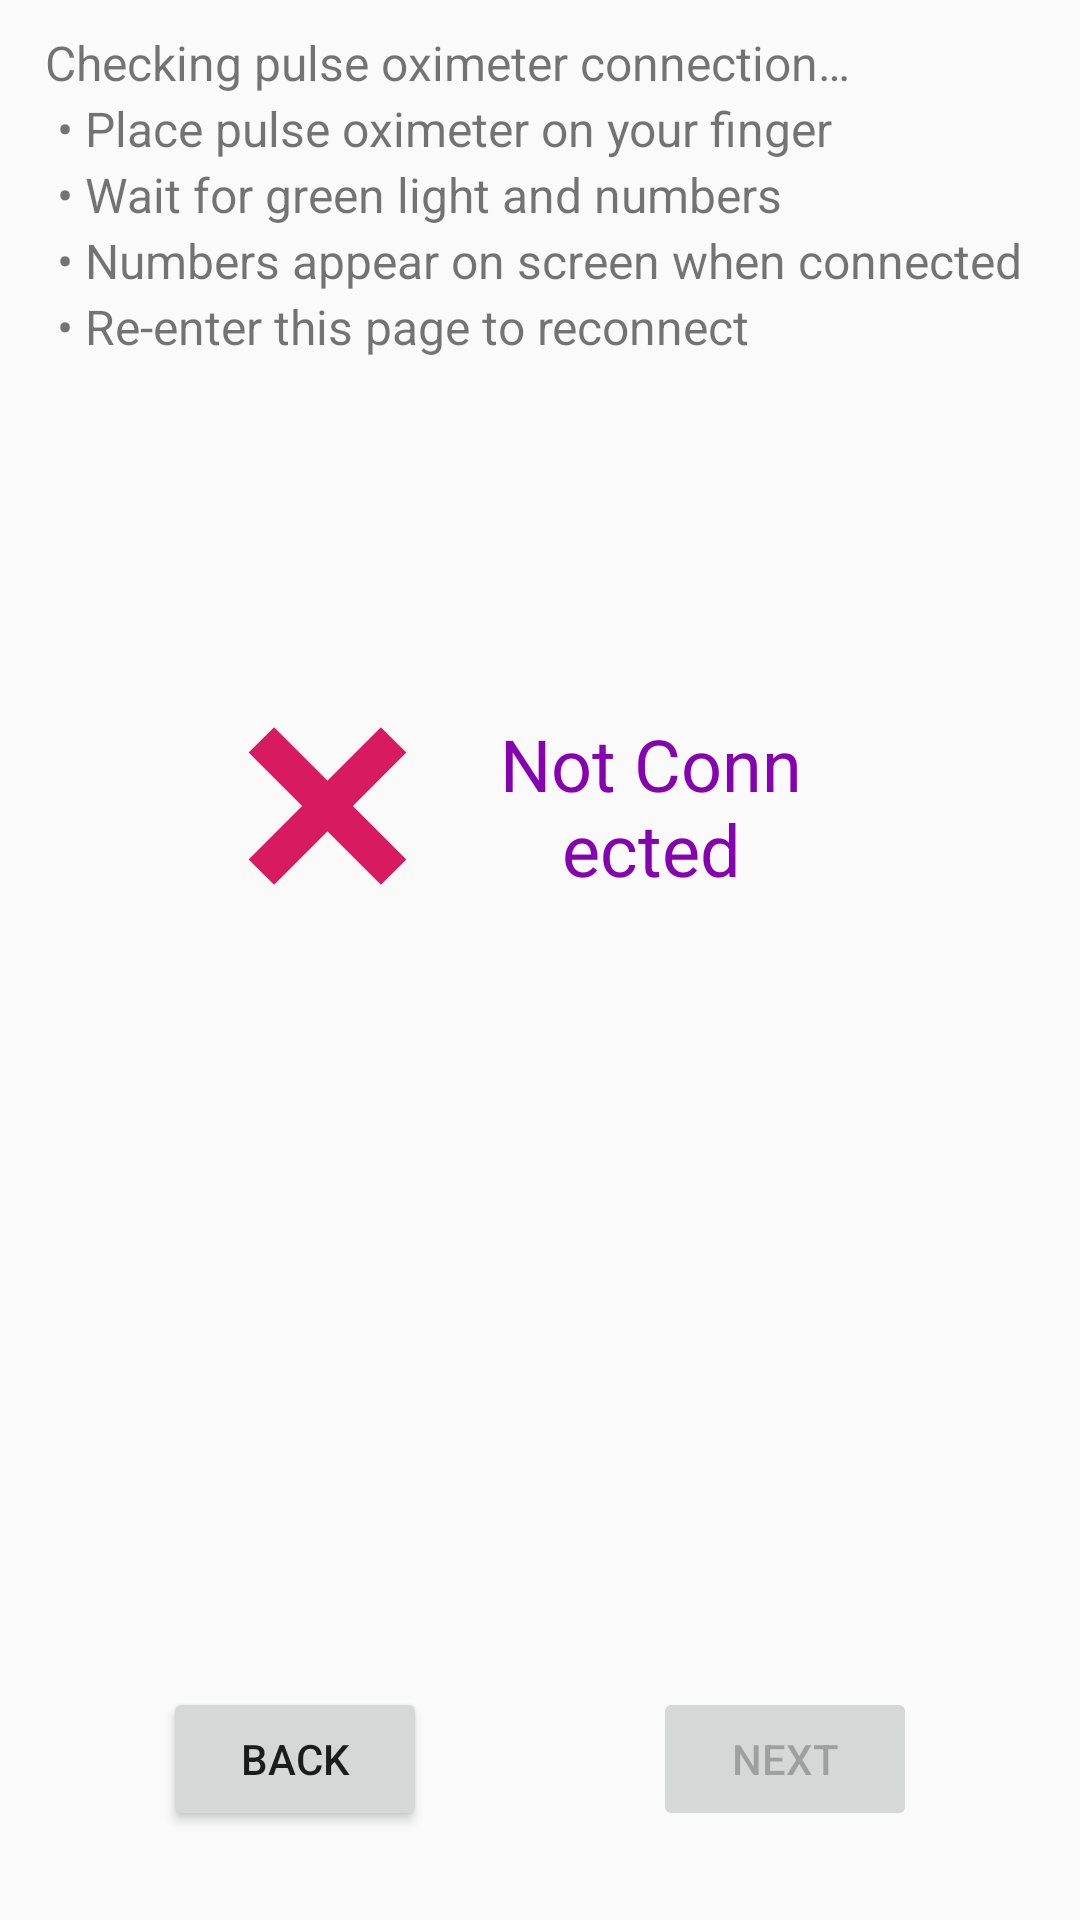

Named icons in this screenshot (1080 x 1920) and their bounding boxes, box(x1, y1, x2, y2):
Connection Error: box(248, 727, 406, 885)
